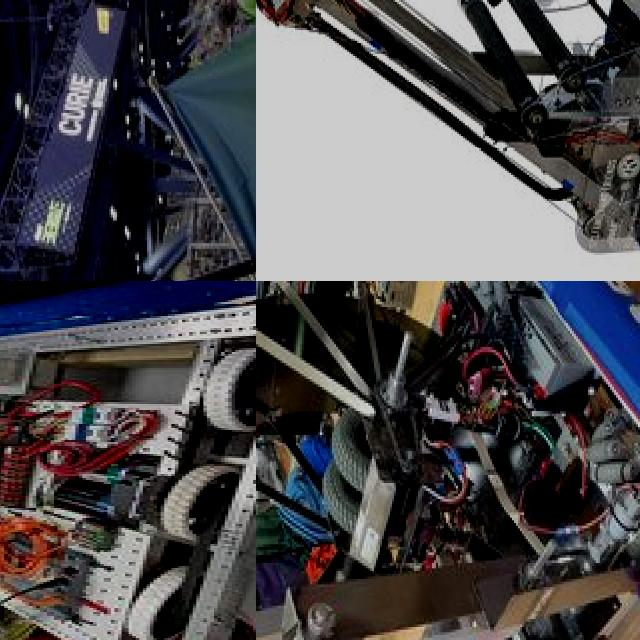FRC-Robots: (256, 281, 640, 640), (256, 0, 640, 281), (0, 281, 256, 640)
